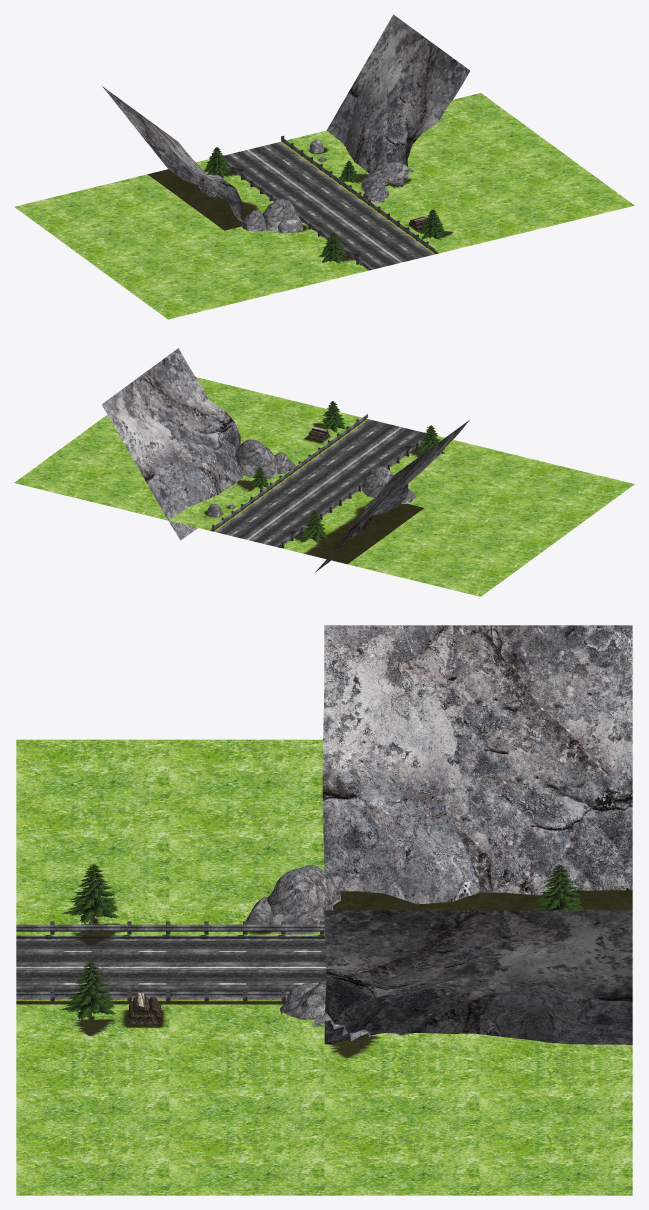
The model's file is scene4_end.FBX.
3 views of the same model, one above another, from view 1: azimuth 30°, elevation 25°; view 2: azimuth 150°, elevation 25°; view 3: azimuth 270°, elevation 25° (orthographic). The views are drawn at different scales.
Parts seen in each view (by area): view 1: scene4_end, Box034, road018, Box063, rock010; view 2: scene4_end, Box034, road018, Box063; view 3: scene4_end, Box034, road018, Box063, wood_block002.
Boxes of the visible parts, left/top/right/bottom form: scene4_end: left=14, top=93, right=634, bottom=319; Box034: left=102, top=14, right=469, bottom=231; road018: left=212, top=135, right=434, bottom=270; Box063: left=204, top=147, right=446, bottom=263; rock010: left=277, top=139, right=324, bottom=233; scene4_end: left=14, top=377, right=634, bottom=596; Box034: left=101, top=348, right=469, bottom=572; road018: left=212, top=414, right=434, bottom=548; Box063: left=250, top=401, right=445, bottom=542; scene4_end: left=16, top=739, right=632, bottom=1195; Box034: left=266, top=625, right=632, bottom=1044; road018: left=16, top=921, right=326, bottom=1002; Box063: left=60, top=864, right=583, bottom=1019; wood_block002: left=129, top=992, right=161, bottom=1023.
Size of the model in its own units: 140 by 33.51 by 80.
